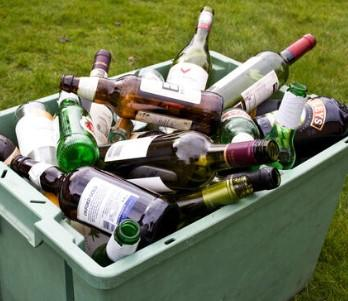glass: (51, 162, 184, 257), (97, 129, 274, 190), (60, 73, 226, 138), (14, 140, 186, 202), (153, 166, 280, 236), (208, 33, 313, 113), (249, 91, 346, 163), (1, 132, 64, 209), (165, 5, 214, 95), (77, 50, 115, 145), (55, 91, 99, 172), (216, 105, 261, 170), (13, 101, 58, 164), (108, 115, 135, 144)
